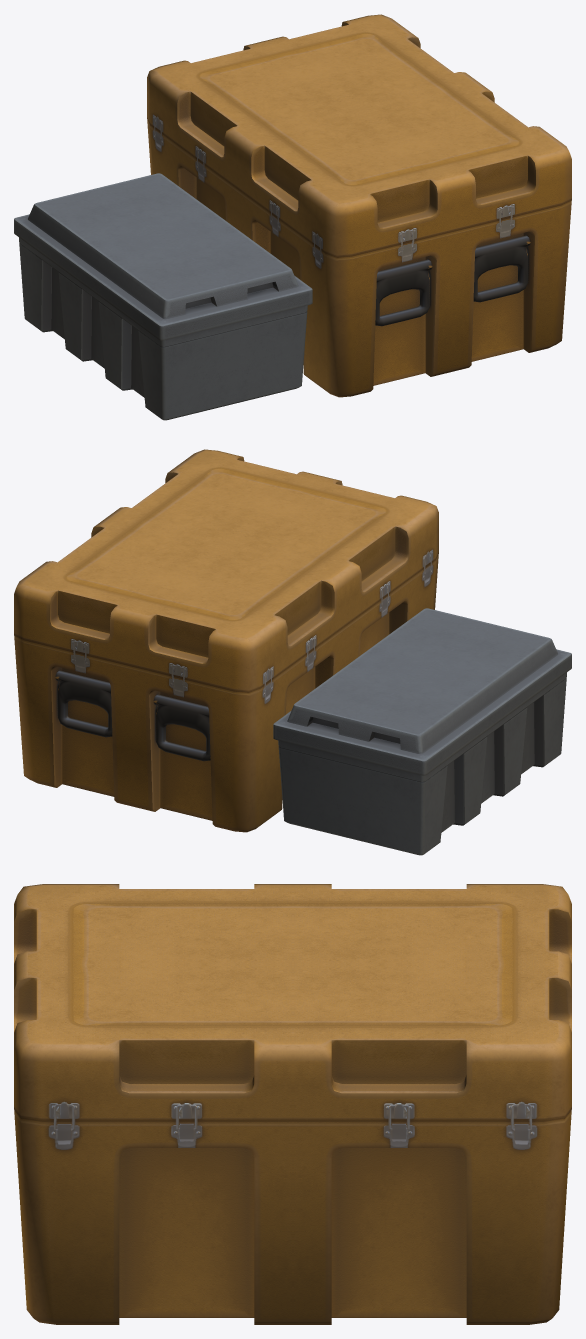
Rendered from cpu_cases.dae.
The picture shows the model from 3 angles, top to bottom: view 1: azimuth 30°, elevation 25°; view 2: azimuth 150°, elevation 25°; view 3: azimuth 270°, elevation 25°; orthographic projection. The views are drawn at different scales.
Visible parts, largest first — view 1: Boxes; view 2: Boxes; view 3: Boxes.
Boxes of the visible parts, bbox=[...] form: Boxes: bbox=[14, 14, 571, 420]; Boxes: bbox=[14, 449, 571, 855]; Boxes: bbox=[14, 884, 571, 1324].
Bounding box in the file's own units: 0.9713 × 0.8306 × 0.4632.
1 material, 1 textured.
